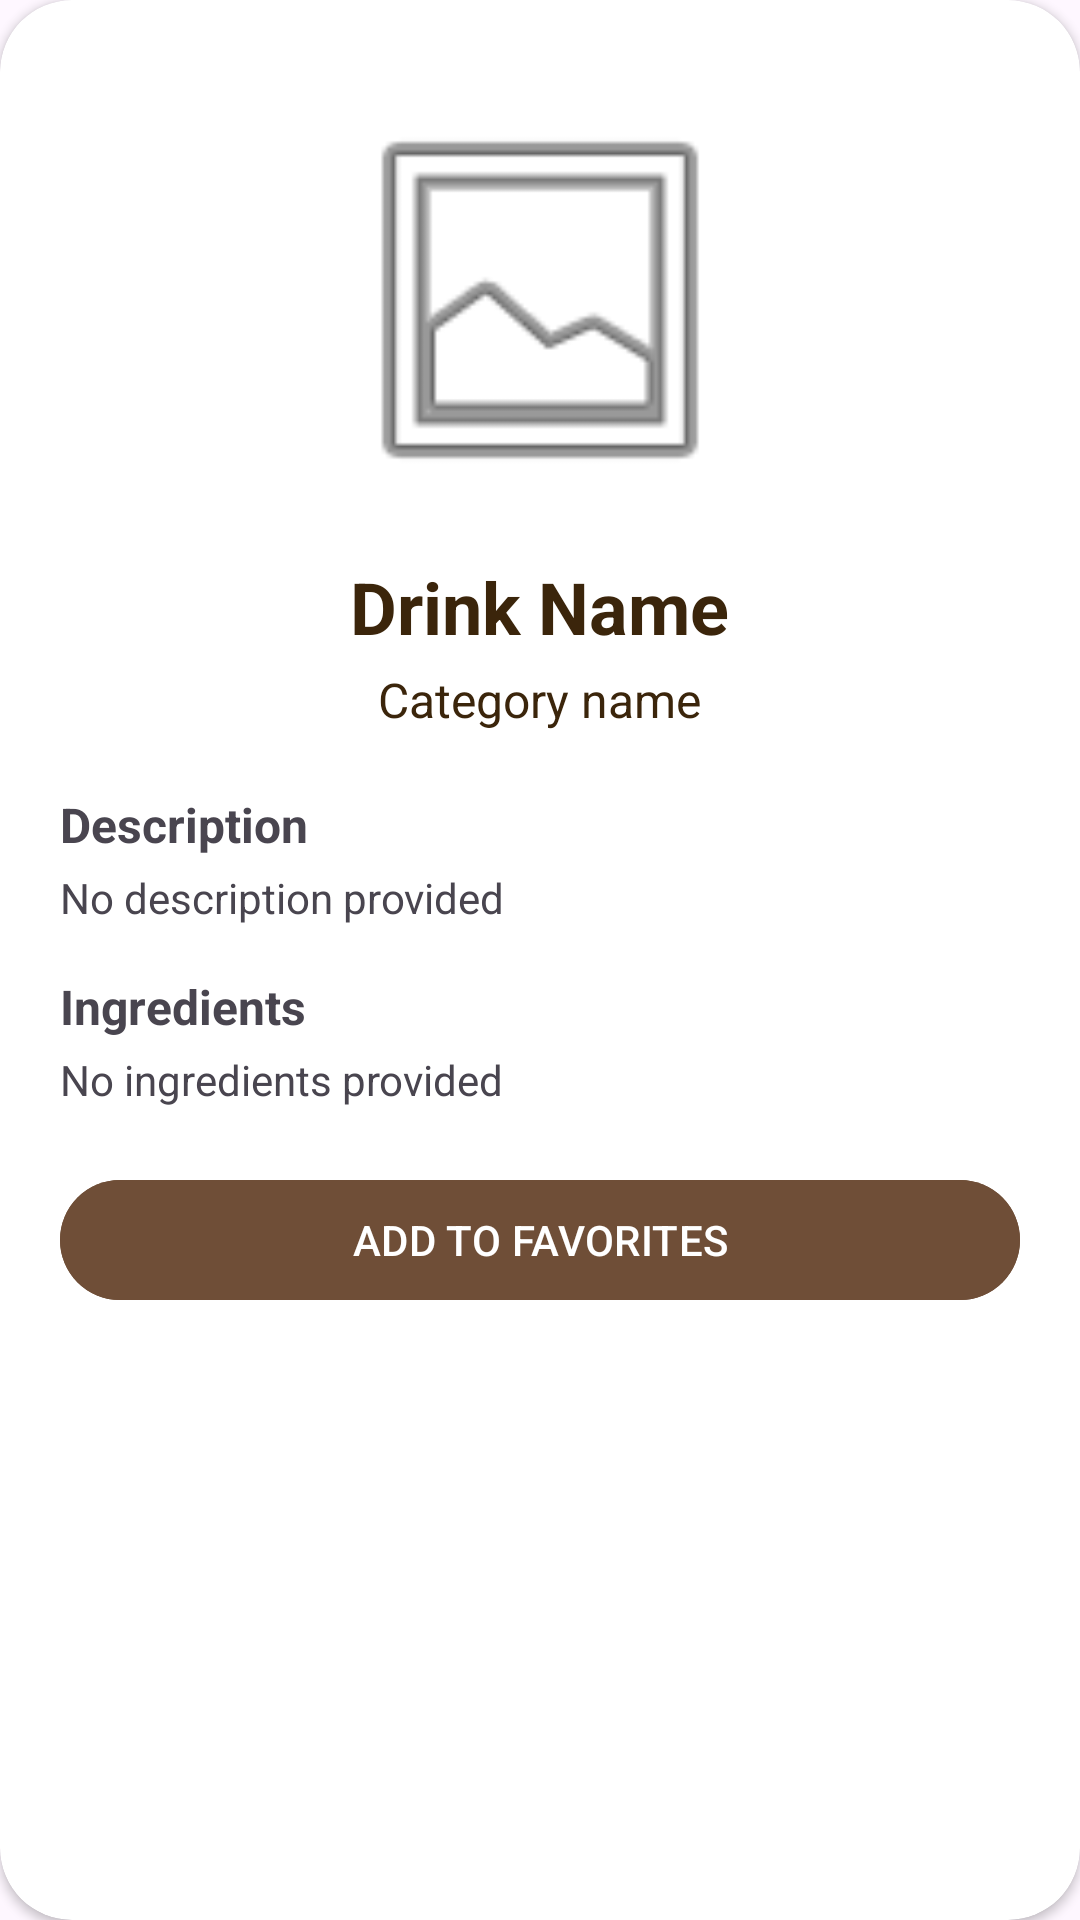

Point at icon controls on the screen. Image size 1080w x 1920h, points as (x=x, y=y).
gallery: (x=540, y=300)
